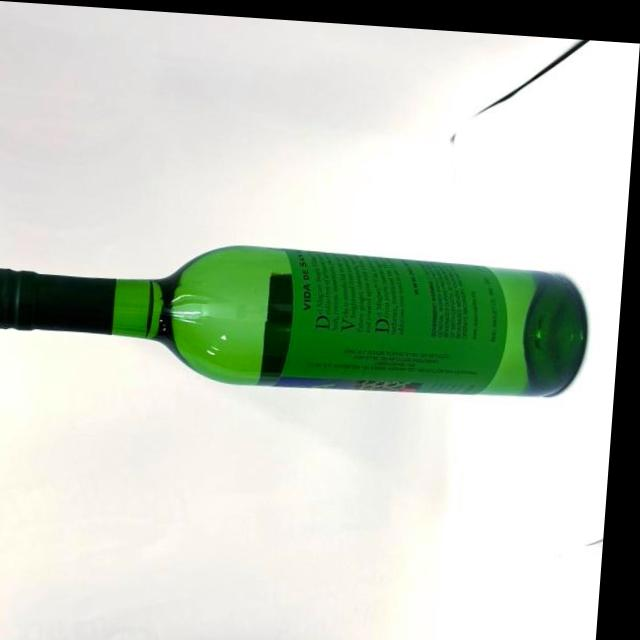Del Maguey VIDA de San Luis del Rio 750ml: (0, 224, 600, 401)
